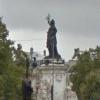Statue: (34, 8, 71, 68)
